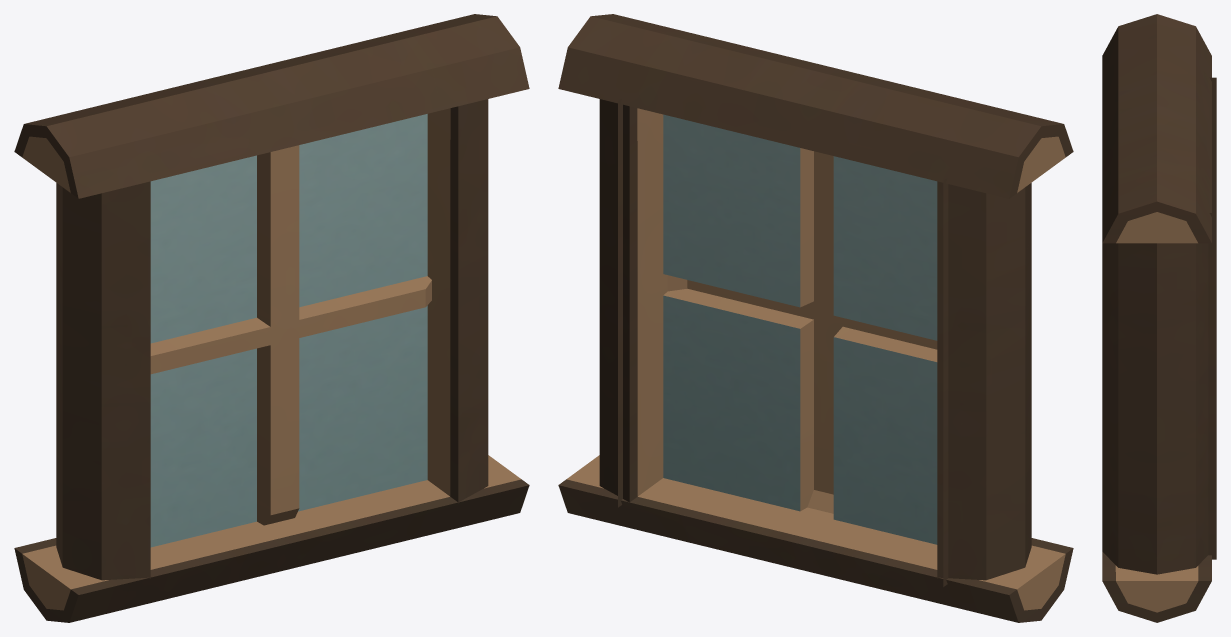
File: cabin_Window.obj
3 renders of one model, left to right at view 1: azimuth 30°, elevation 25°; view 2: azimuth 150°, elevation 25°; view 3: azimuth 270°, elevation 25°, orthographic. The views are drawn at different scales.
Parts seen in each view (by area): view 1: cabin_Window; view 2: cabin_Window; view 3: cabin_Window.
Boxes of the visible parts, left/top/right/bottom form: cabin_Window: left=14, top=14, right=529, bottom=622; cabin_Window: left=558, top=14, right=1073, bottom=622; cabin_Window: left=1102, top=14, right=1216, bottom=622.
Bounding box in the file's own units: 1.23 × 1.29 × 0.3163.
